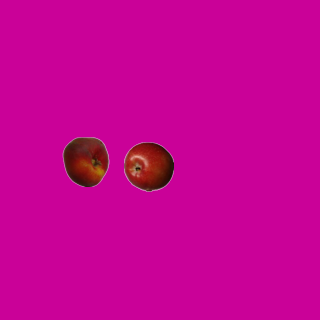Apple Braeburn: (123, 141, 173, 191)
Nectarine Flat: (60, 136, 110, 186)
